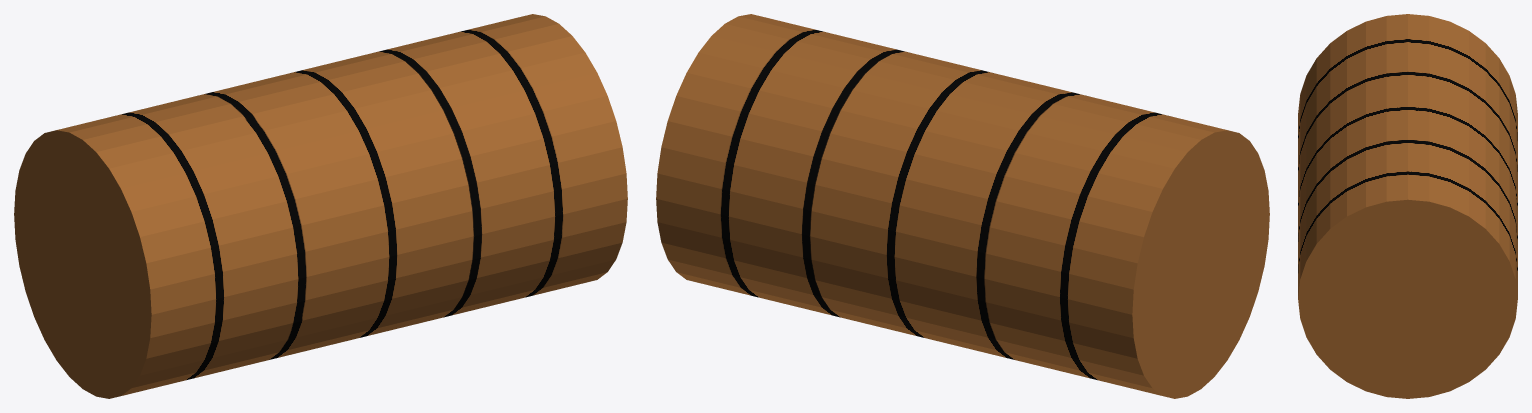
The model's file is Fuse_Long.obj.
3 renders of one model, left to right at view 1: azimuth 30°, elevation 25°; view 2: azimuth 150°, elevation 25°; view 3: azimuth 270°, elevation 25°, orthographic. The views are drawn at different scales.
Visible parts, largest first — view 1: 円柱; view 2: 円柱; view 3: 円柱.
Part boxes in pixels (box(x1,y1,x2,y2)): 円柱: box(14, 14, 627, 398); 円柱: box(656, 14, 1269, 398); 円柱: box(1298, 14, 1517, 398).
Size of the model in its own units: 1 by 0.5 by 0.5.
